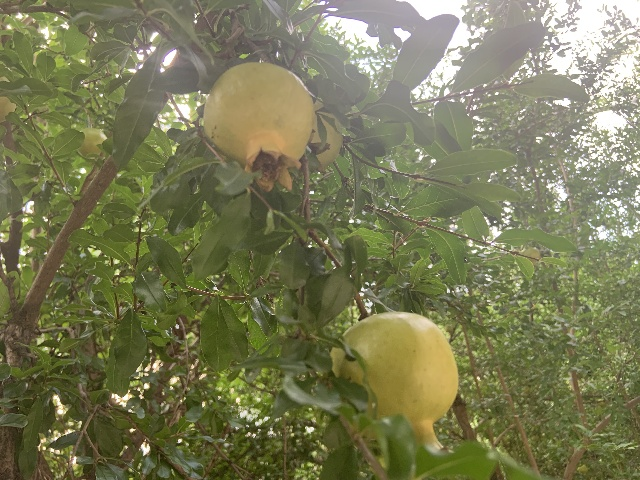mid-growth: (329, 310, 463, 452), (202, 62, 318, 193), (306, 102, 342, 174), (76, 127, 107, 161)
